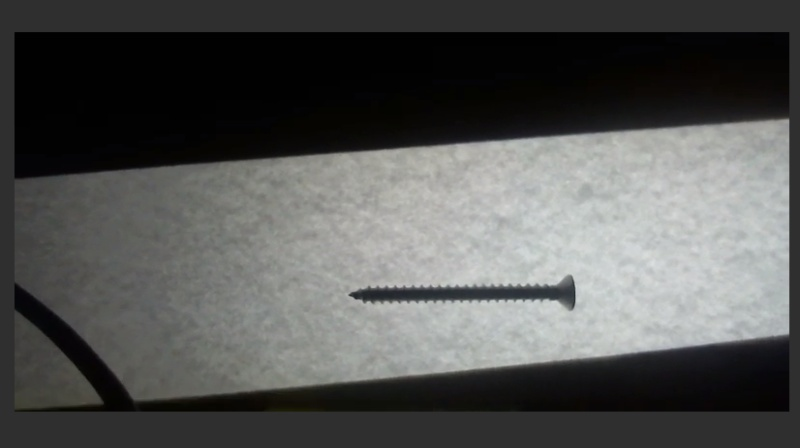S002: (345, 271, 579, 314)
